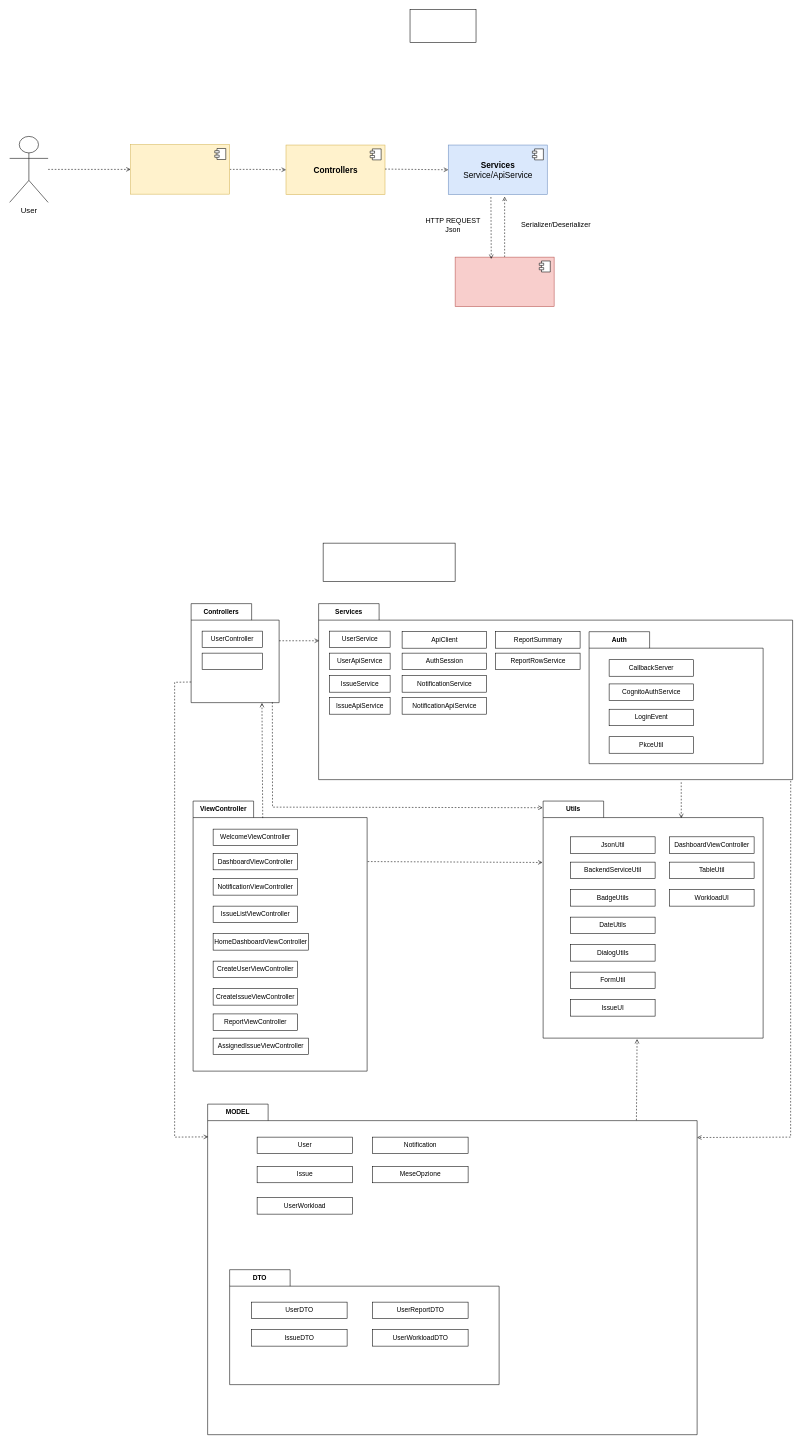
Image size: 805x1444. Some labels were removed from this diagram. The centre of each missing label's shape, as x and y in pixels:
"Component Diagram" belongs at (442,26).
"IssueController" belongs at (232,661).
"Package Diagram" belongs at (389,562).
"Server" belongs at (504,282).
"Views FXML/ViewControllers" belongs at (180,169).
